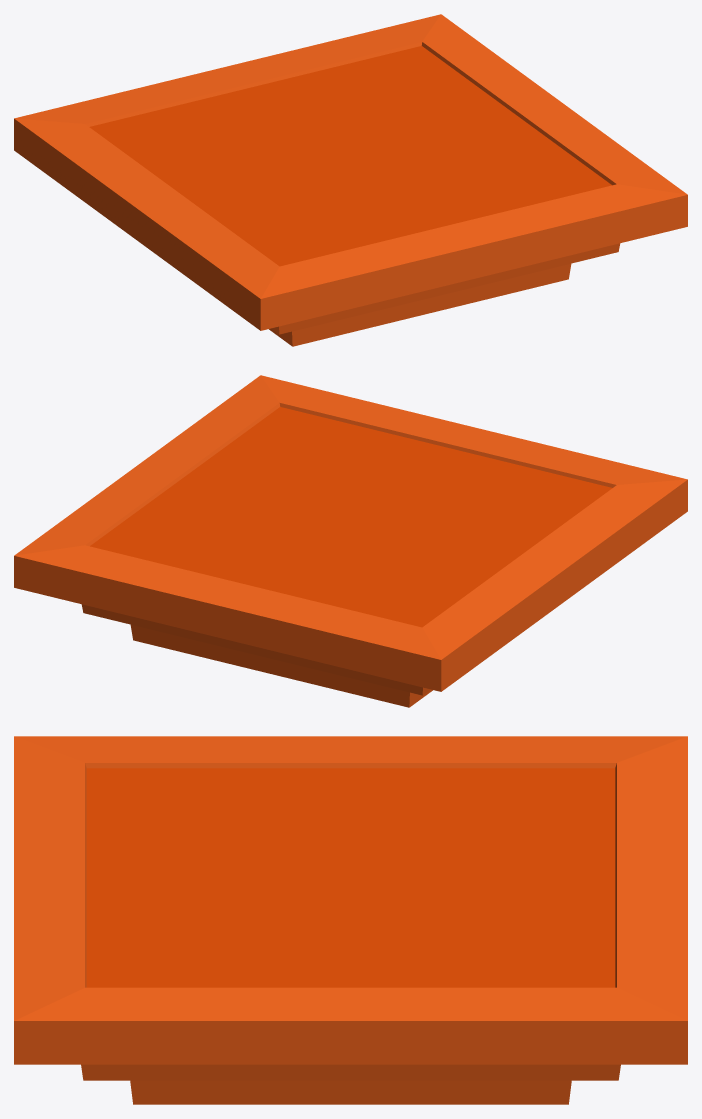
Rendered from SM_Moving_Platform_2m_01.fbx.
The picture shows the model from 3 angles, top to bottom: view 1: azimuth 30°, elevation 25°; view 2: azimuth 150°, elevation 25°; view 3: azimuth 270°, elevation 25°; orthographic projection. The views are drawn at different scales.
Visible parts, largest first — view 1: pCube477; view 2: pCube477; view 3: pCube477.
Boxes of the visible parts, x1,y1,x2,y2 form: pCube477: (14, 14, 687, 346); pCube477: (14, 375, 687, 707); pCube477: (14, 736, 687, 1104).
Bounding box in the file's own units: 197 × 44.38 × 197.
Materials: 1 (1 with a texture image).
